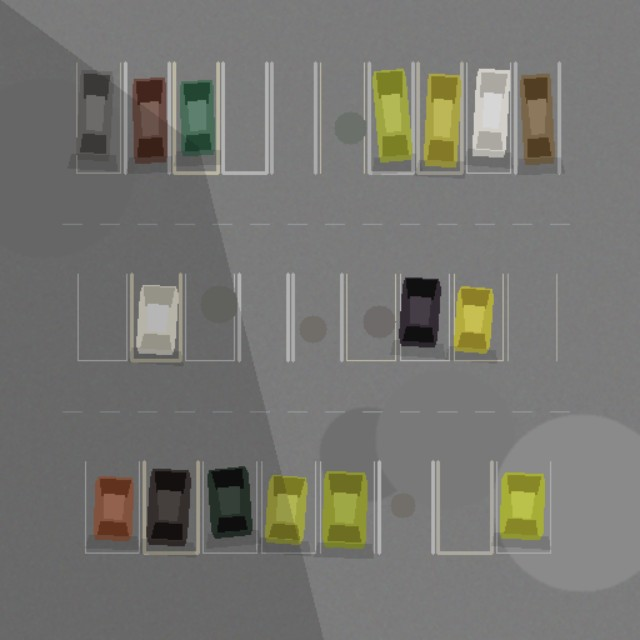space-empty: (271, 63, 315, 173), (320, 63, 364, 173), (379, 461, 432, 552), (438, 461, 491, 552), (223, 63, 266, 173), (185, 274, 234, 360), (239, 274, 288, 360), (292, 274, 341, 360), (346, 274, 395, 360), (78, 274, 126, 360), (508, 274, 556, 360)
space-occupied: (85, 461, 139, 552), (144, 461, 198, 552), (202, 461, 256, 552), (261, 461, 315, 552), (320, 461, 374, 552), (496, 461, 550, 552), (76, 63, 120, 173), (125, 63, 169, 173), (369, 63, 413, 173), (417, 63, 461, 173), (466, 63, 510, 173), (515, 63, 559, 173), (174, 63, 217, 173), (131, 274, 180, 360), (400, 274, 449, 360), (454, 274, 502, 360)
